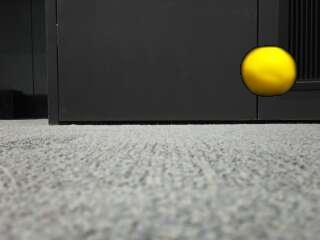lemon: (243, 48, 297, 97)
